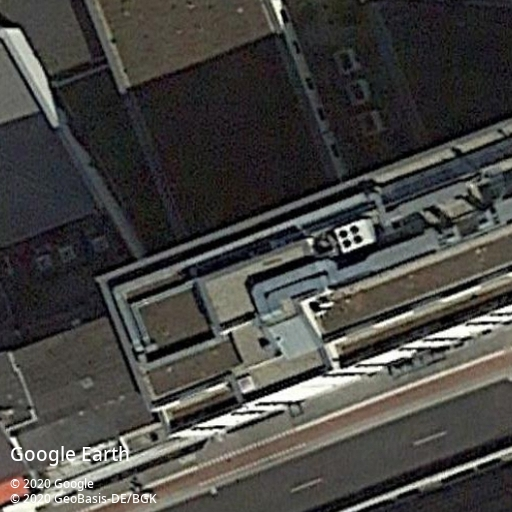Chiller: (333, 218, 376, 255)
